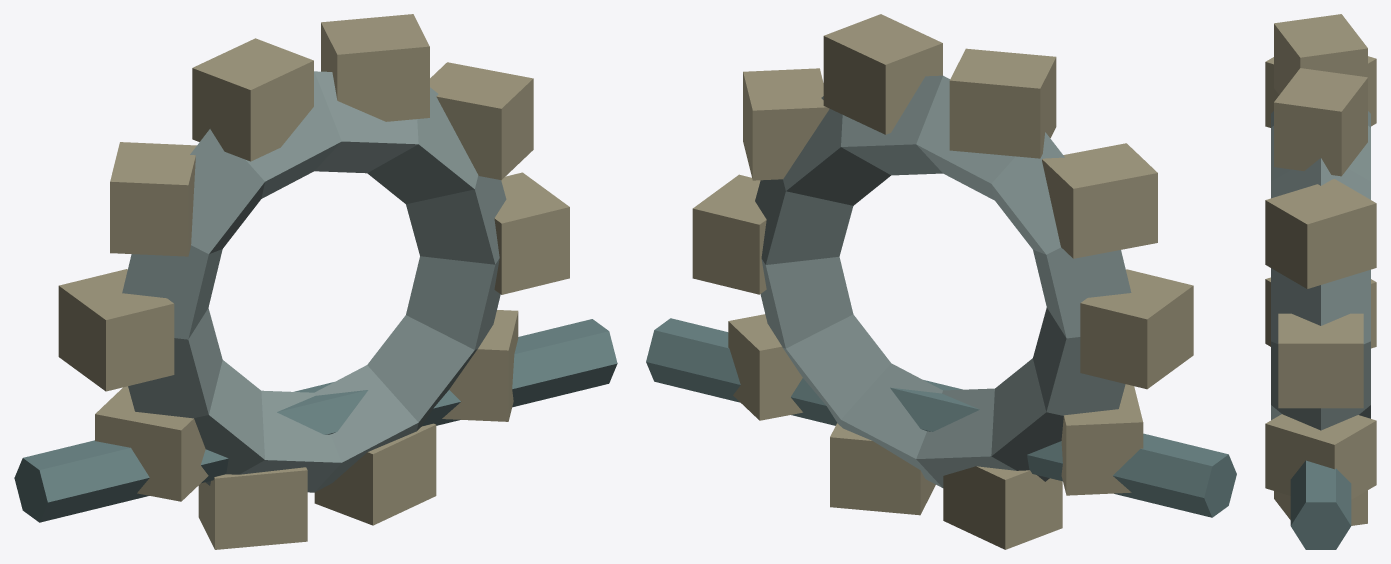
File: map-exclusive-v3__iron_10.glb
3 renders of one model, left to right at view 1: azimuth 30°, elevation 25°; view 2: azimuth 150°, elevation 25°; view 3: azimuth 270°, elevation 25°, orthographic. The views are drawn at different scales.
Parts seen in each view (by area): view 1: iron_10; view 2: iron_10; view 3: iron_10.
Part boxes in pixels (box(x1,y1,x2,y2)): iron_10: box(14, 14, 617, 549); iron_10: box(646, 14, 1236, 549); iron_10: box(1265, 14, 1376, 549).
Bounding box in the file's own units: 1.67 × 1.3 × 0.3117.
